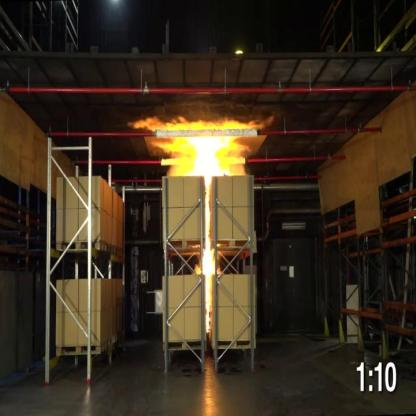fire: (127, 114, 276, 175), (199, 178, 219, 340)
